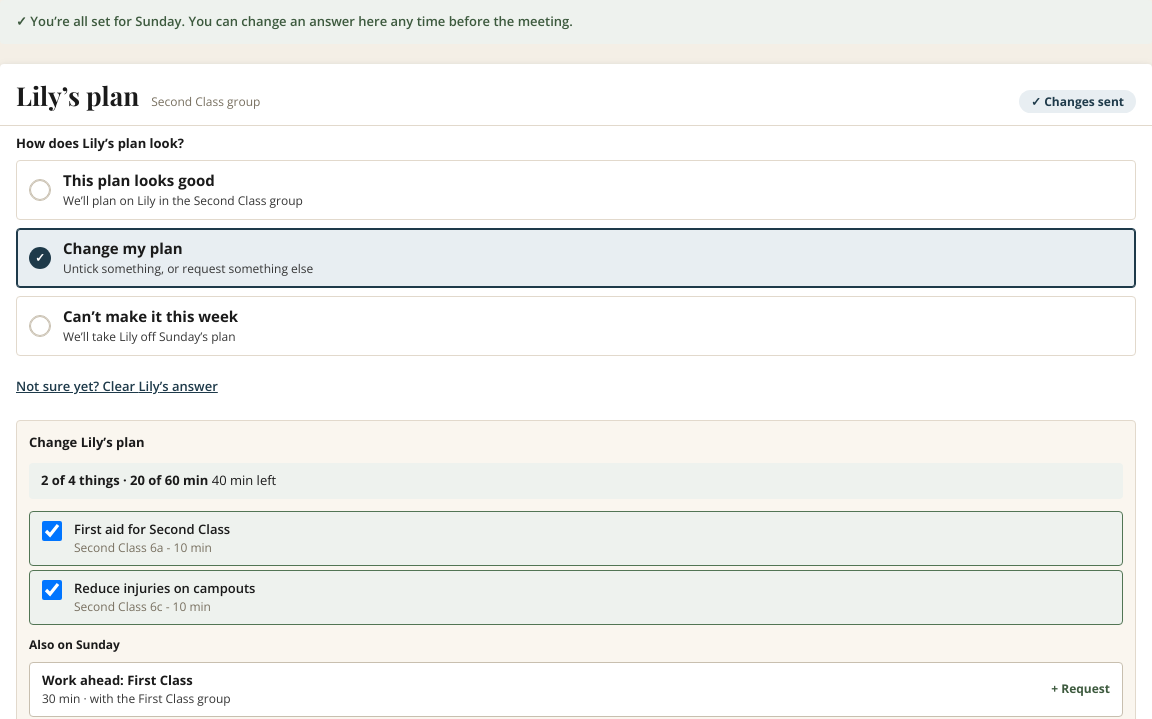
Test: requests › Family_Request_JoinsChecklistWithRequestedTag
Click the button "Work ahead: First Class" at [117, 680], box [29, 662, 1123, 717]
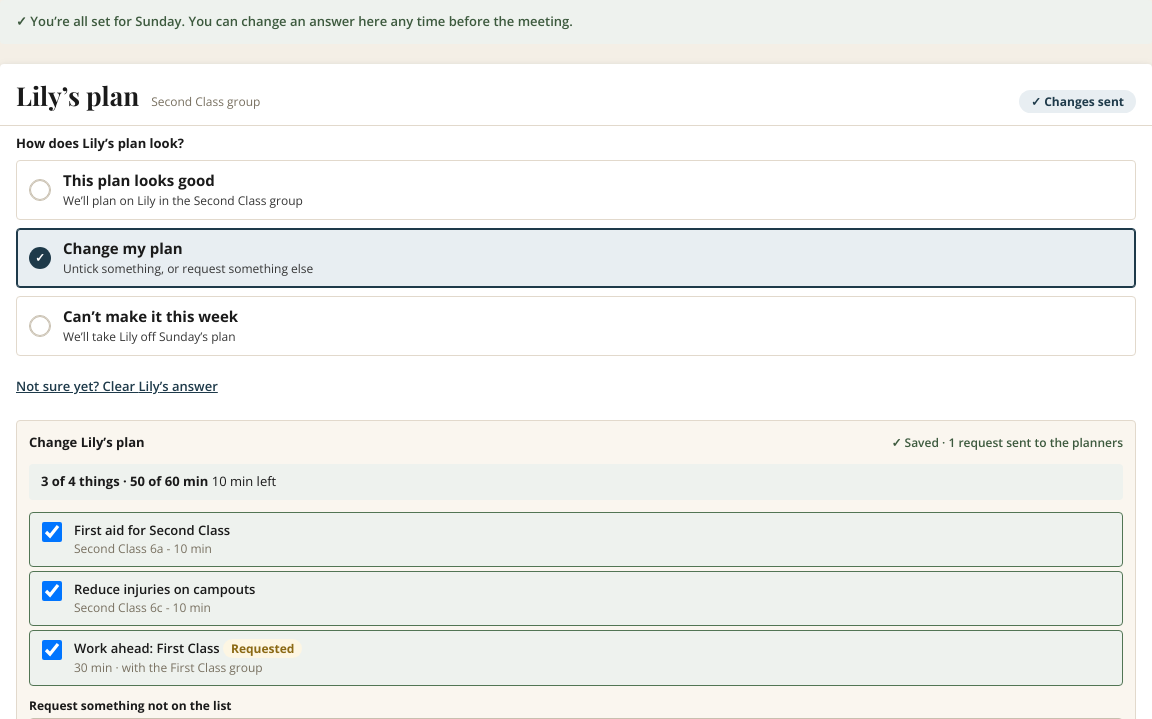
Check: the label "Work ahead: First Class" shows "Requested", box [231, 640, 294, 656]
